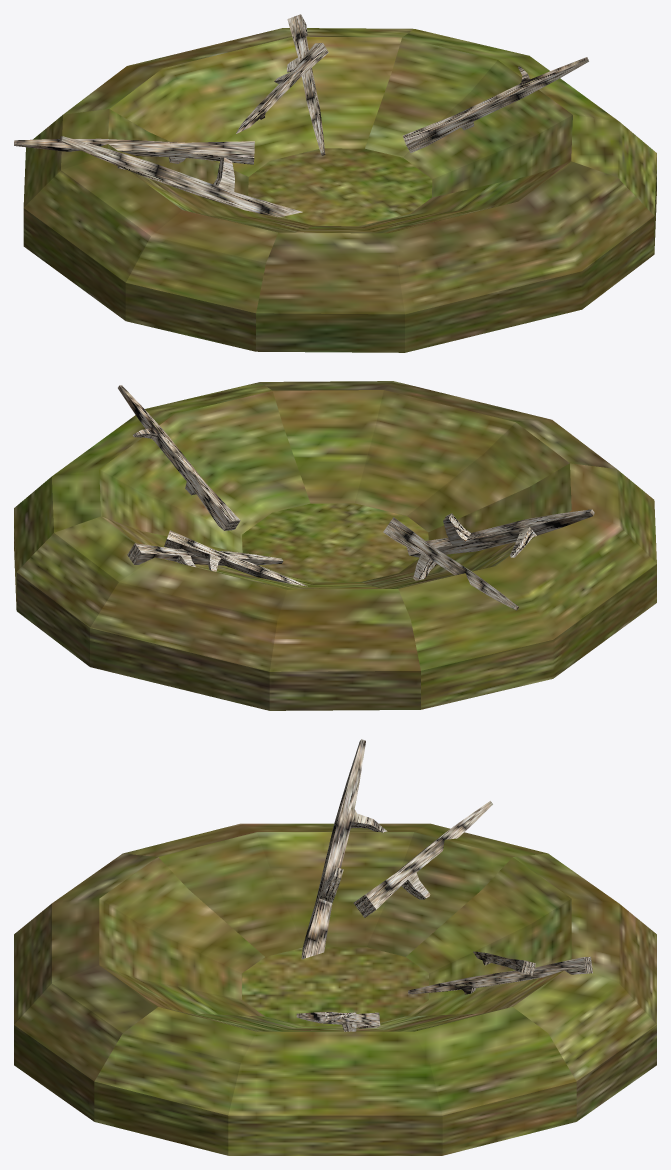
File: Nest.fbx
3 renders of one model, top to bottom at view 1: azimuth 30°, elevation 25°; view 2: azimuth 150°, elevation 25°; view 3: azimuth 270°, elevation 25°, orthographic. The views are drawn at different scales.
Parts seen in each view (by area): view 1: Cube; view 2: Cube; view 3: Cube.
Boxes of the visible parts, x1=… form: Cube: x1=14, y1=14, x2=656, y2=352; Cube: x1=14, y1=381, x2=656, y2=710; Cube: x1=14, y1=739, x2=656, y2=1155.
Size of the model in its own units: 227 by 56.48 by 227.
Materials: 2 (2 with a texture image).
